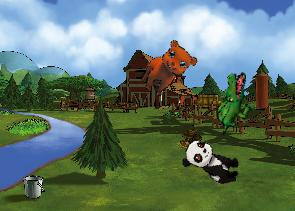bear: (136, 35, 201, 105)
crocodile: (210, 70, 255, 135)
panda: (178, 135, 245, 188)
